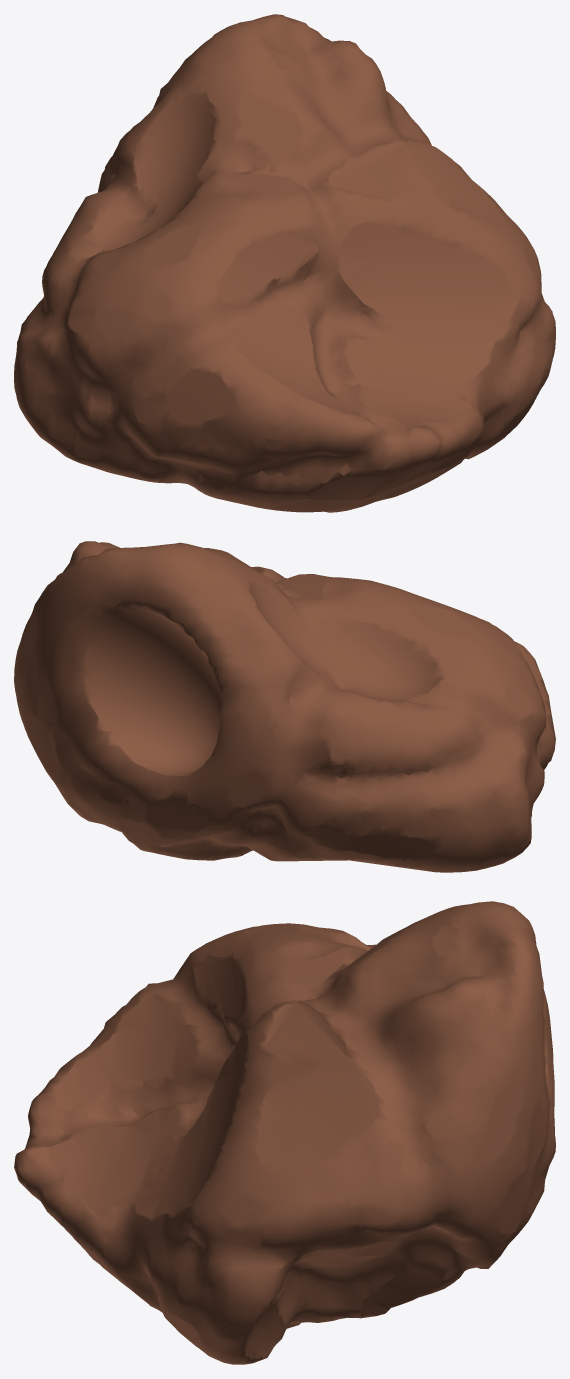
The model's file is Asteroid ROCK 5 dmgfbx.fbx.
The picture shows the model from 3 angles, top to bottom: view 1: azimuth 30°, elevation 25°; view 2: azimuth 150°, elevation 25°; view 3: azimuth 270°, elevation 25°; orthographic projection. The views are drawn at different scales.
Parts seen in each view (by area): view 1: rock.018_dmg; view 2: rock.018_dmg; view 3: rock.018_dmg.
Part boxes in pixels (x1=…): rock.018_dmg: x1=14, y1=14, x2=555, y2=512; rock.018_dmg: x1=14, y1=541, x2=555, y2=872; rock.018_dmg: x1=14, y1=901, x2=555, y2=1364.
Size of the model in its own units: 107 by 78.41 by 94.68.
